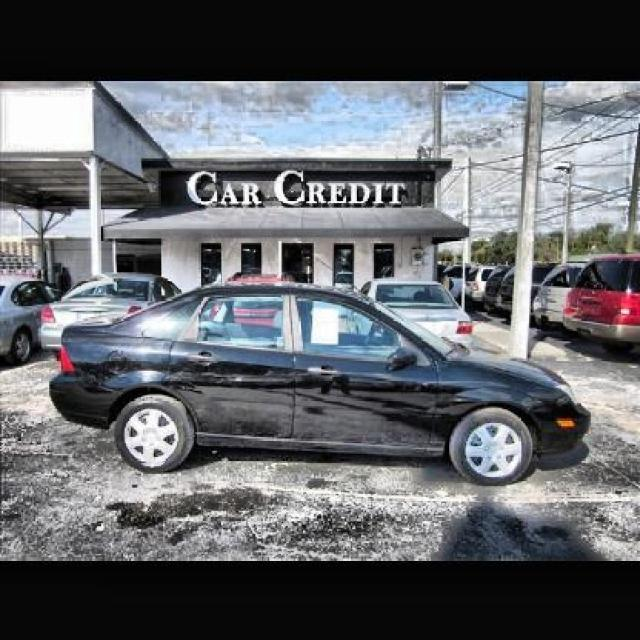black: (66, 300, 570, 496)
red: (571, 256, 640, 342)
